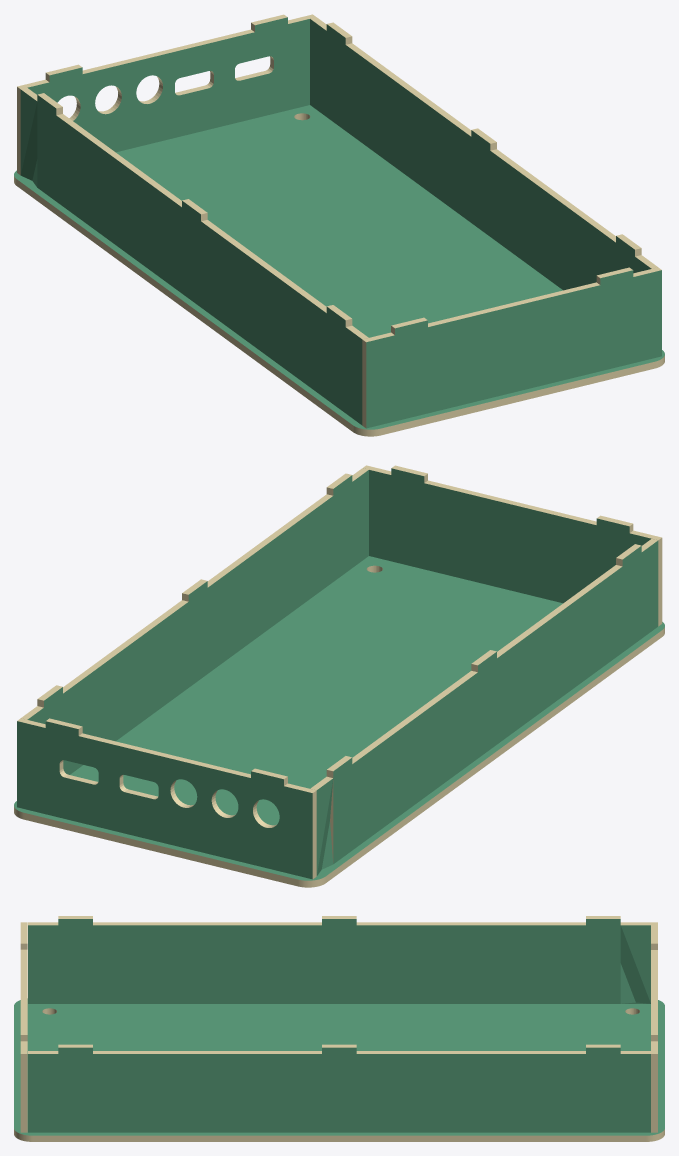
Rendered from case.glb.
3 views of the same model, one above another, from view 1: azimuth 30°, elevation 25°; view 2: azimuth 150°, elevation 25°; view 3: azimuth 270°, elevation 25° (orthographic). The views are drawn at different scales.
Parts seen in each view (by area): view 1: Curve.015, Curve.032, Curve.033, Curve.031, Curve.030; view 2: Curve.015, Curve.032, Curve.033, Curve.030, Curve.031; view 3: Curve.033, Curve.032, Curve.015, Curve.031, Curve.030.
Boxes of the visible parts, x1,y1,x2,y2 form: Curve.015: (14,105,664,436); Curve.032: (20,88,368,425); Curve.033: (310,17,657,290); Curve.031: (362,267,661,428); Curve.030: (17,14,316,175); Curve.015: (14,556,664,887); Curve.032: (310,539,658,875); Curve.033: (21,468,368,774); Curve.030: (17,718,316,879); Curve.031: (363,465,662,626); Curve.033: (28,1044,650,1132); Curve.032: (28,916,650,1003); Curve.015: (14,998,664,1141); Curve.031: (20,922,27,1132); Curve.030: (651,922,657,1132).
Bounding box in the file's own units: 75 × 23.2 × 150.
